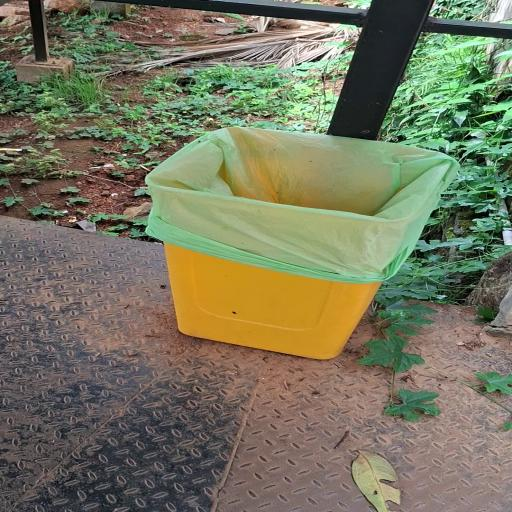Nilkamal-dustbin-detection: (146, 127, 458, 359)
